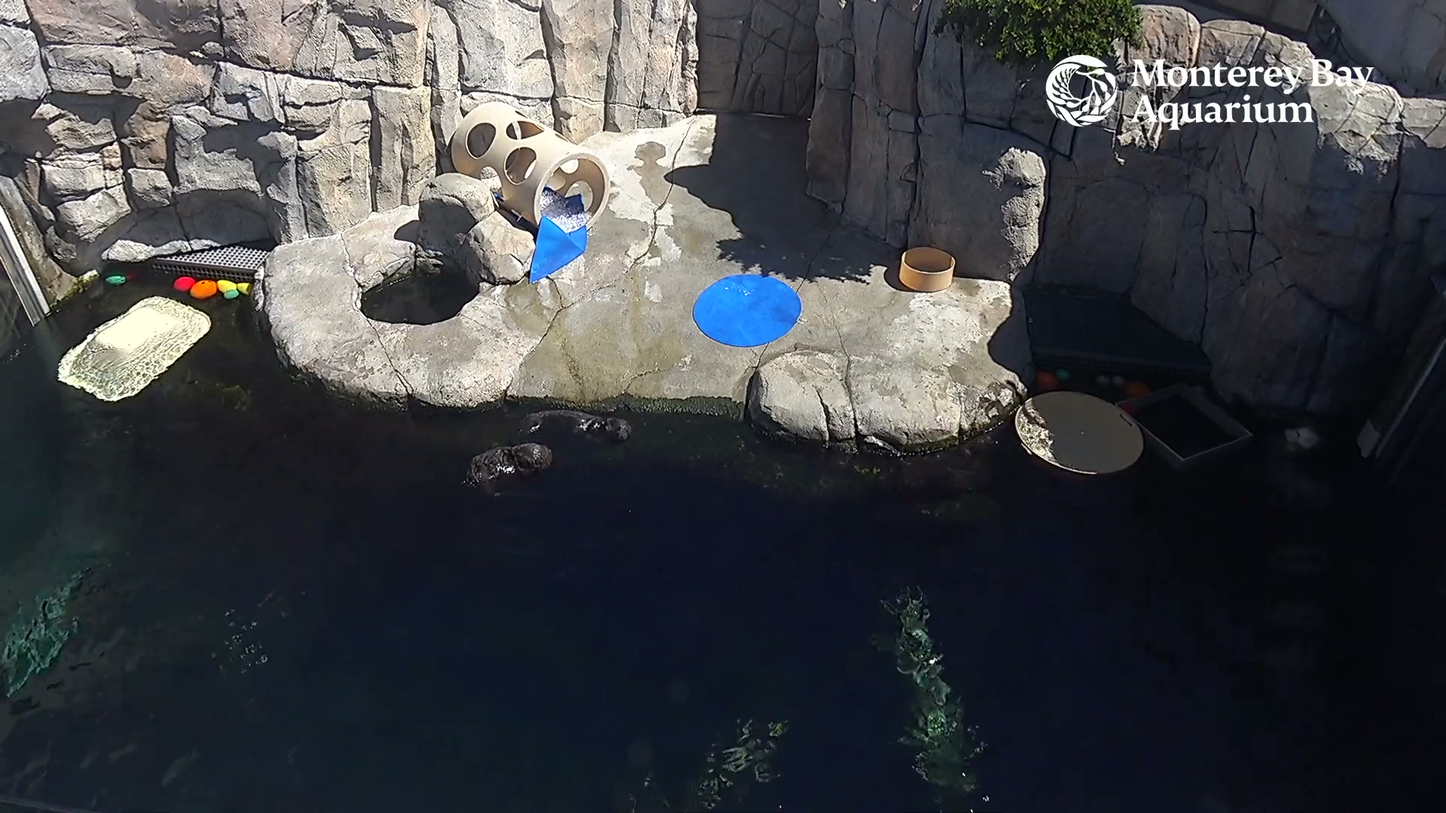Southern Sea Otter: (509, 407, 634, 453), (458, 441, 558, 498), (1258, 426, 1340, 458)
